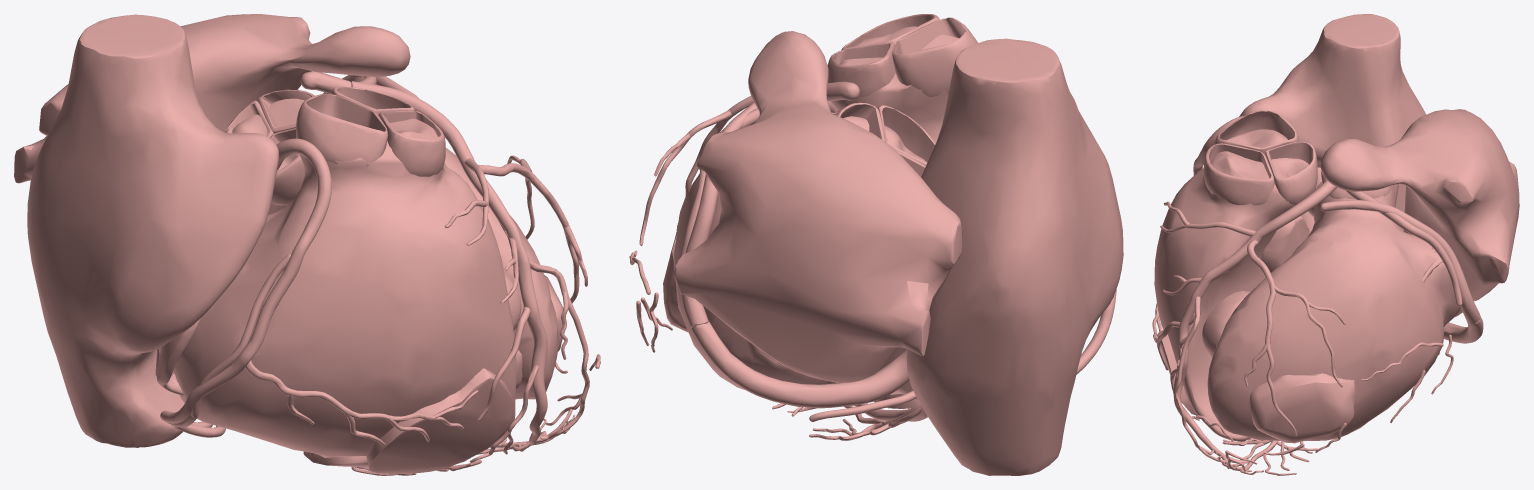
Rendered from heart.glb.
3 renders of one model, left to right at view 1: azimuth 30°, elevation 25°; view 2: azimuth 150°, elevation 25°; view 3: azimuth 270°, elevation 25°, orthographic. The views are drawn at different scales.
Visible parts, largest first — view 1: right-atrium, right-ventricle, left-atrium, anterior-interventricular-artery, papillary-muscles, pulmonary-valve, left-ventricle, right-coronary-artery, aortic-valve, right-marginal-artery, small-cardiac-vein, tricuspid-valve (+2 smaller); view 2: right-atrium, left-atrium, pulmonary-valve, coronary-sinus, left-ventricle, right-ventricle, aortic-valve, great-cardiac-vein, anterior-interventricular-artery, right-coronary-artery, circumflex-artery, middle-cardiac-vein (+3 smaller); view 3: left-ventricle, left-atrium, right-ventricle, right-atrium, papillary-muscles, anterior-interventricular-artery, pulmonary-valve, circumflex-artery, great-cardiac-vein, middle-cardiac-vein, coronary-sinus, aortic-valve (+2 smaller).
Boxes of the visible parts, bbox=[...] form: right-atrium: bbox=[27, 14, 278, 447]; right-ventricle: bbox=[158, 118, 516, 456]; left-atrium: bbox=[14, 14, 410, 183]; anterior-interventricular-artery: bbox=[350, 81, 600, 462]; papillary-muscles: bbox=[303, 273, 564, 473]; pulmonary-valve: bbox=[296, 86, 445, 176]; left-ventricle: bbox=[232, 98, 558, 399]; right-coronary-artery: bbox=[160, 138, 331, 427]; aortic-valve: bbox=[225, 89, 314, 205]; right-marginal-artery: bbox=[245, 360, 478, 446]; small-cardiac-vein: bbox=[170, 254, 290, 437]; tricuspid-valve: bbox=[155, 317, 201, 395]; right-atrium: bbox=[906, 38, 1123, 475]; left-atrium: bbox=[675, 31, 962, 382]; pulmonary-valve: bbox=[827, 14, 977, 110]; coronary-sinus: bbox=[691, 321, 909, 408]; left-ventricle: bbox=[673, 116, 927, 389]; right-ventricle: bbox=[837, 26, 958, 401]; aortic-valve: bbox=[834, 102, 935, 176]; great-cardiac-vein: bbox=[681, 102, 756, 327]; anterior-interventricular-artery: bbox=[639, 96, 837, 255]; right-coronary-artery: bbox=[809, 289, 1116, 421]; circumflex-artery: bbox=[629, 108, 759, 352]; middle-cardiac-vein: bbox=[772, 403, 927, 440]; left-ventricle: bbox=[1207, 181, 1460, 441]; left-atrium: bbox=[1320, 109, 1519, 301]; right-ventricle: bbox=[1154, 129, 1314, 441]; right-atrium: bbox=[1239, 14, 1426, 230]; papillary-muscles: bbox=[1157, 215, 1356, 443]; anterior-interventricular-artery: bbox=[1156, 180, 1345, 471]; pulmonary-valve: bbox=[1203, 110, 1317, 205]; circumflex-artery: bbox=[1263, 190, 1462, 455]; great-cardiac-vein: bbox=[1320, 200, 1480, 324]; middle-cardiac-vein: bbox=[1215, 440, 1317, 475]; coronary-sinus: bbox=[1443, 316, 1483, 343]; aortic-valve: bbox=[1308, 167, 1398, 216].
Size of the model in its own units: 1.9 by 1.72 by 1.72.
